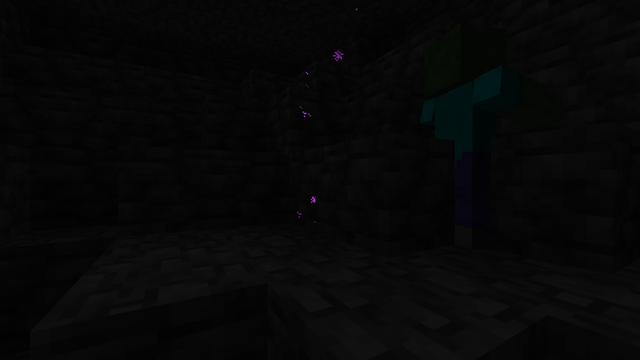zombies: (417, 20, 512, 254)
